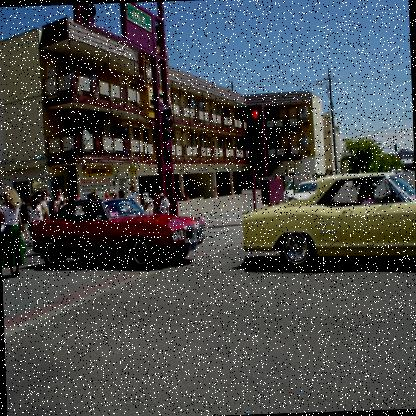Car: (241, 172, 415, 278), (32, 196, 206, 272), (294, 178, 318, 200), (396, 169, 404, 179)
